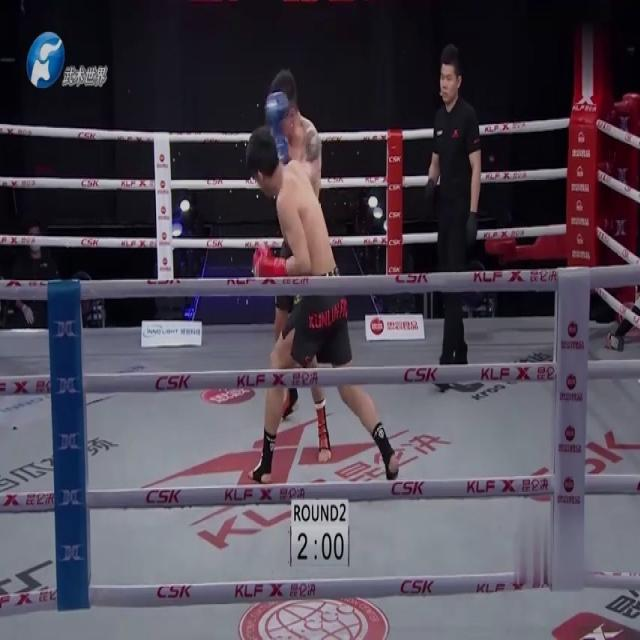fight: (251, 56, 395, 495)
non-fight: (420, 42, 482, 386)
